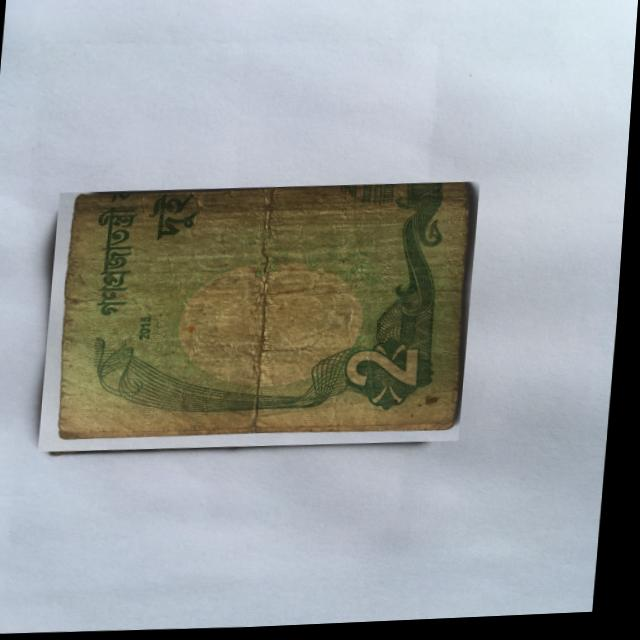Taka: (44, 179, 483, 460)
